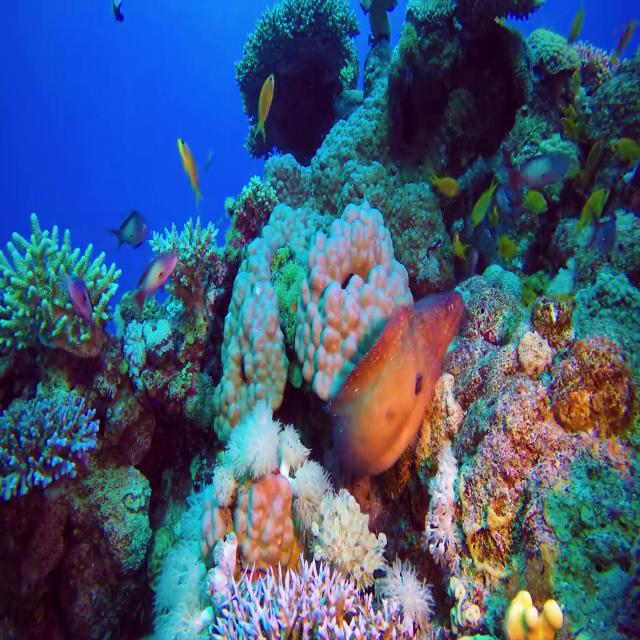fish: (308, 285, 474, 485), (104, 201, 154, 258), (176, 120, 204, 208), (464, 170, 502, 234), (252, 65, 280, 144), (575, 180, 614, 236), (425, 166, 463, 203), (522, 184, 554, 221), (608, 131, 640, 166), (445, 227, 471, 268), (493, 234, 523, 268), (564, 4, 586, 46)
